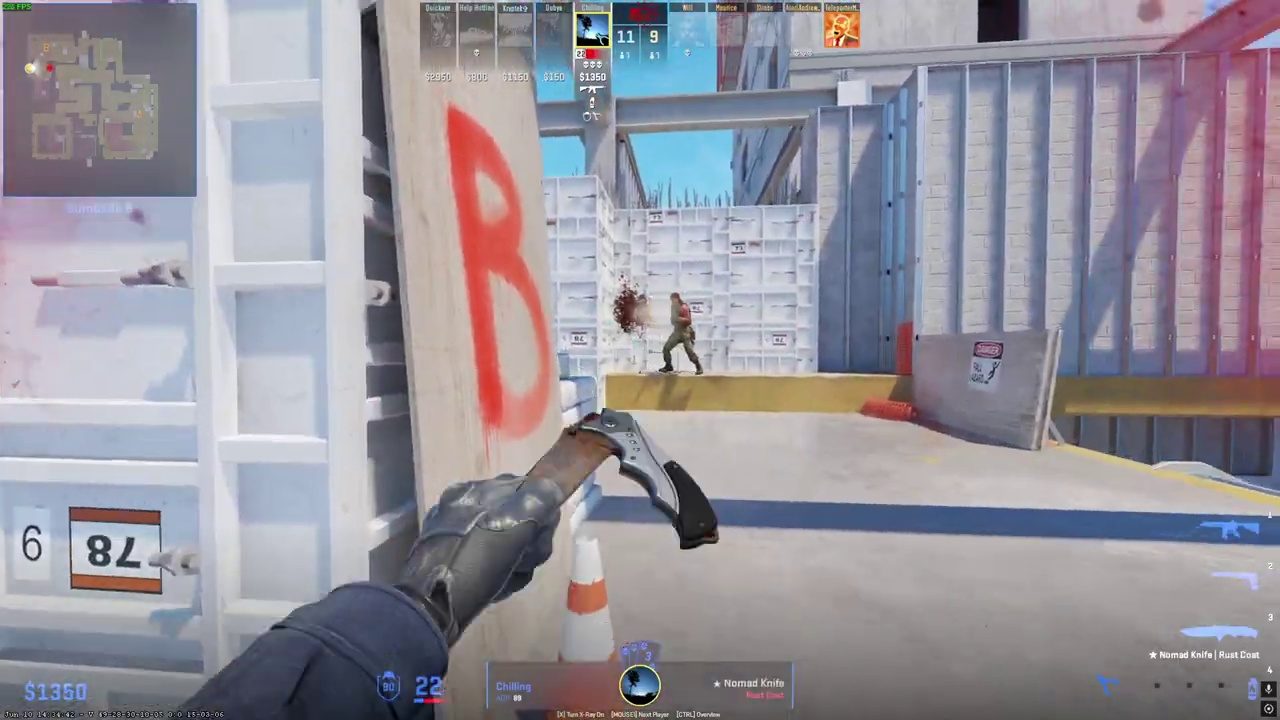Terrorist: (660, 292, 700, 374)
